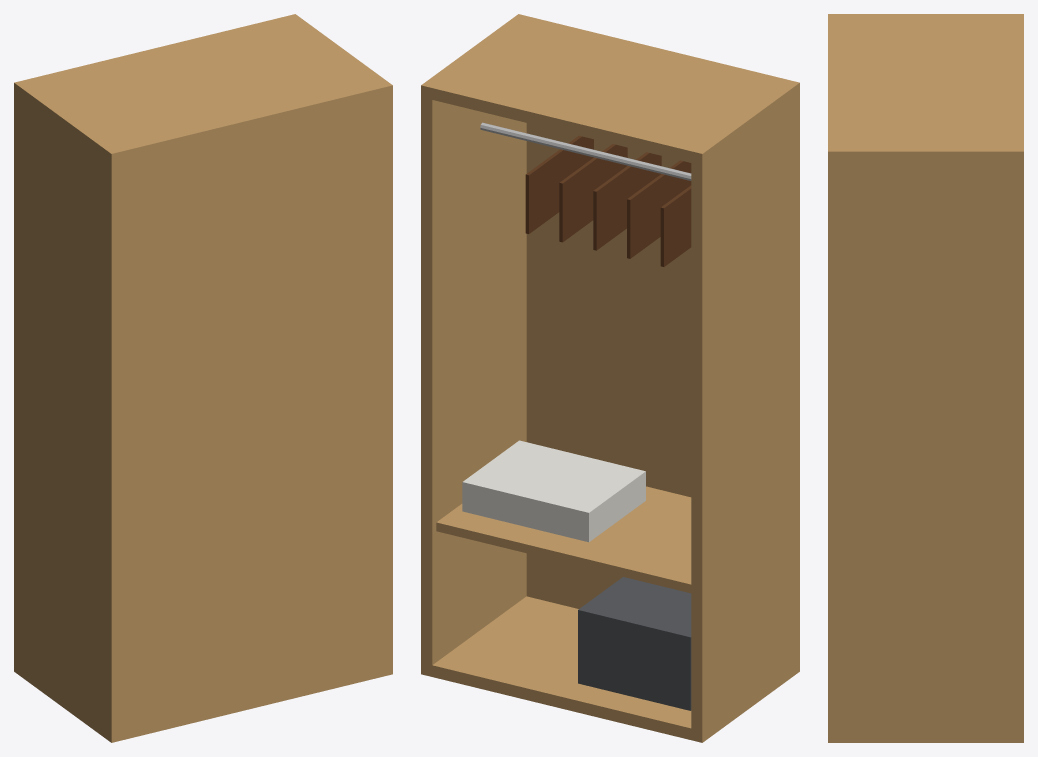
File: hospitality.hotel.wardrobe.glb
3 views of the same model, side by side, from view 1: azimuth 30°, elevation 25°; view 2: azimuth 150°, elevation 25°; view 3: azimuth 270°, elevation 25° (orthographic).
Visible parts, largest first — view 1: main__glulam; view 2: main__glulam, main__hardwood, main__fabric_white, main__plastic_grey, main__steel_stainless; view 3: main__glulam.
Part boxes in pixels (x1,y1,x2,y2): main__glulam: (14,14,392,742); main__glulam: (421,14,799,742); main__hardwood: (525,135,691,266); main__fabric_white: (462,440,645,542); main__plastic_grey: (578,577,691,710); main__steel_stainless: (480,122,691,180); main__glulam: (828,14,1023,742).
Bounding box in the file's own units: 1 × 2 × 0.6.
